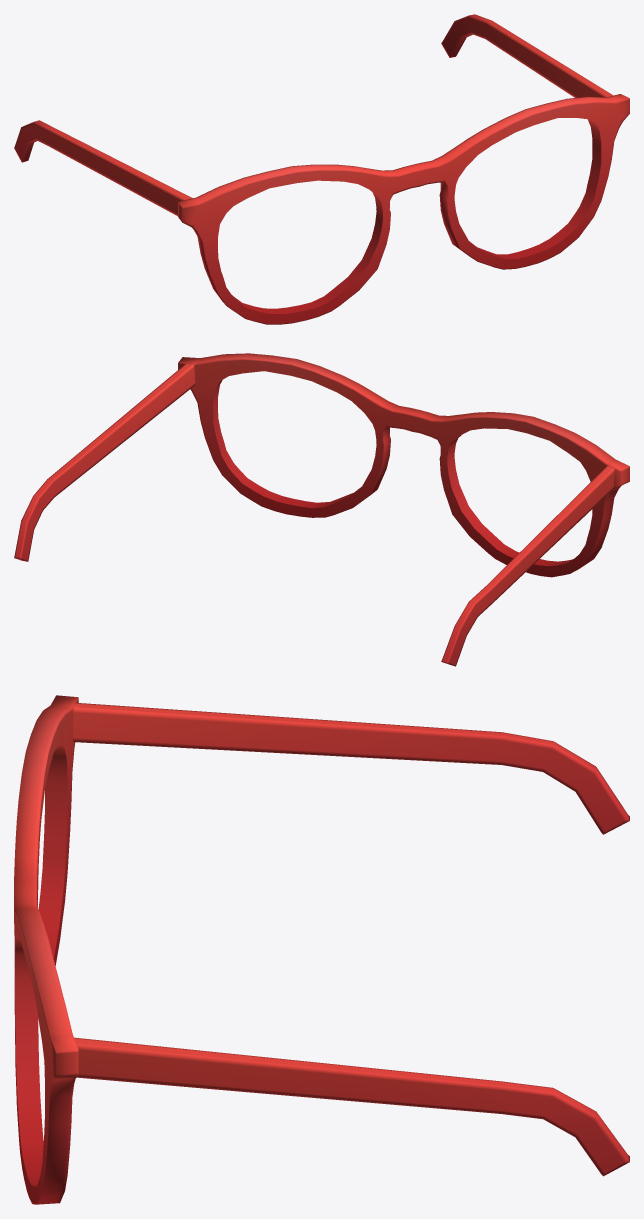
File: glasses_004.glb
3 views of the same model, one above another, from view 1: azimuth 30°, elevation 25°; view 2: azimuth 150°, elevation 25°; view 3: azimuth 270°, elevation 25° (orthographic). The views are drawn at different scales.
Parts seen in each view (by area): view 1: Glasses_004; view 2: Glasses_004; view 3: Glasses_004.
Boxes of the visible parts, <box> form: Glasses_004: <box>14,14,629,324</box>; Glasses_004: <box>14,353,629,666</box>; Glasses_004: <box>14,695,629,1204</box>.
Bounding box in the file's own units: 0.2465 × 0.0794 × 0.1798.
1 material, 1 textured.
